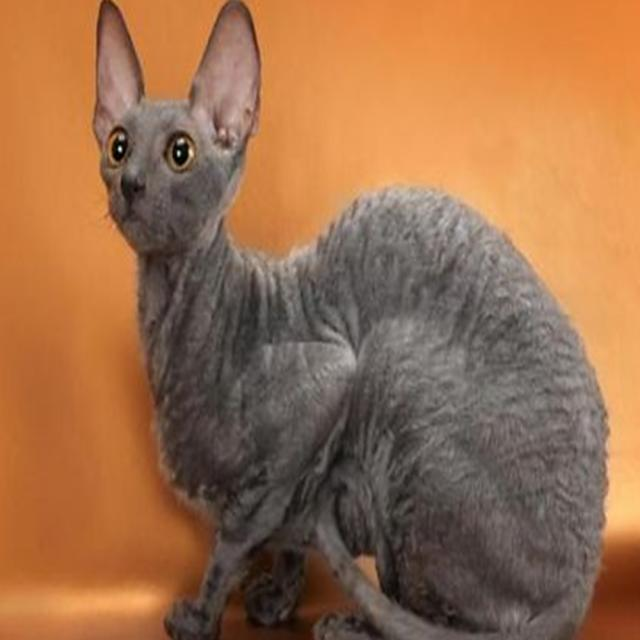Cornish Rex: (87, 0, 618, 640)
